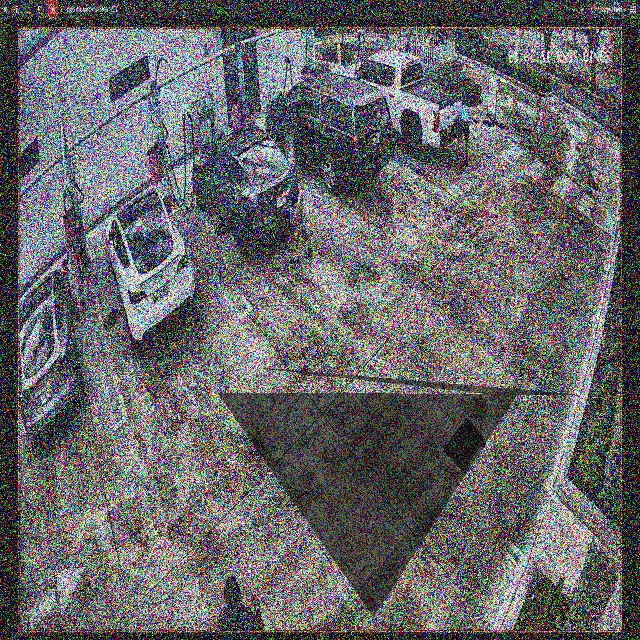Car: (106, 177, 194, 353), (267, 73, 391, 195), (338, 47, 463, 154), (192, 122, 298, 246)
